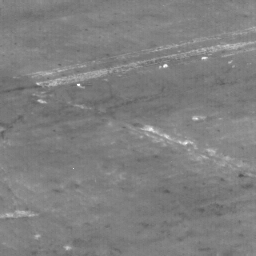aircraft: (78, 84, 80, 86)
